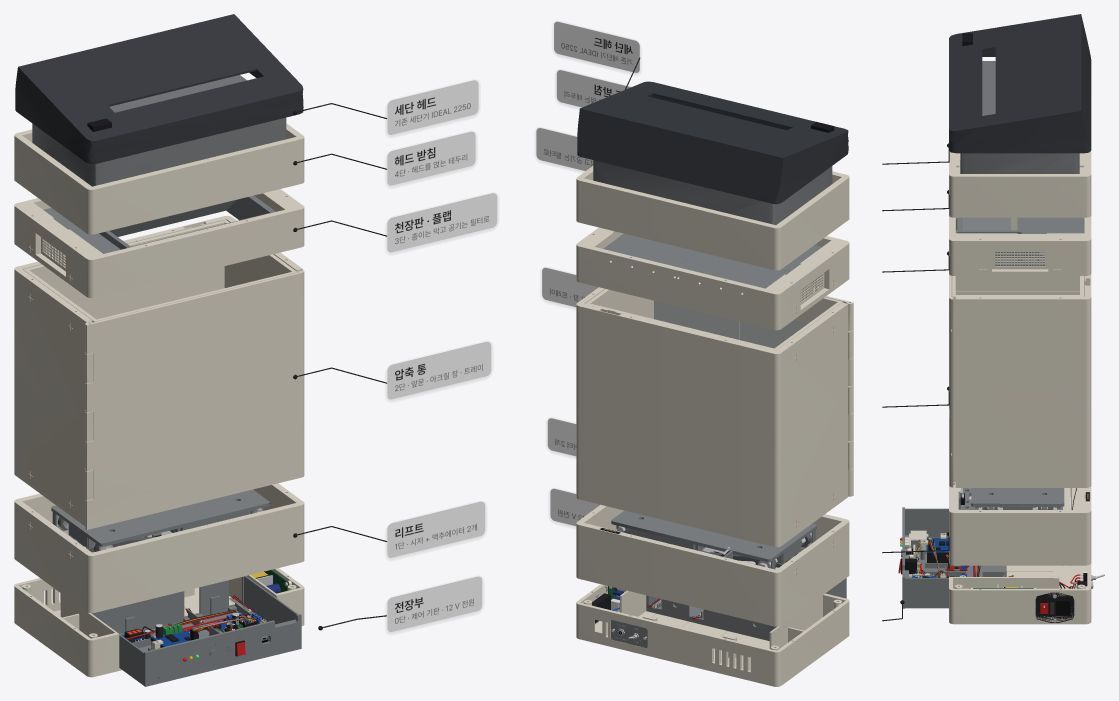
The picture shows the model from 3 angles, left to right: view 1: azimuth 30°, elevation 25°; view 2: azimuth 150°, elevation 25°; view 3: azimuth 270°, elevation 25°; orthographic projection. The views are drawn at different scales.
Visible parts, largest first — view 1: s2_door, head, c1_box, s2_outer, s3, s4, c0_drawer, c0_box, s2_bin, cal3, cal2, cal1 (+5 smaller); view 2: s2_outer, head, c1_box, s3, s4, c0_box, s2_bin, s2_door, cal5, c0_drawer, L_1-L6, L_1-L7 (+6 smaller); view 3: s2_outer, head, c1_box, s3, c0_box, s4, c0_drawer, s2_bin, L_1-L7, c0_fix, s2_door, s3_flap.
Part boxes in pixels (x1,y1,x2,y2): s2_door: (85,270,304,529); head: (15,14,303,186); c1_box: (14,483,304,613); s2_outer: (14,215,302,526); s3: (14,189,304,298); s4: (14,123,304,234); c0_drawer: (91,576,301,686); c0_box: (14,568,304,677); s2_bin: (23,220,297,322); cal3: (293,193,497,252); cal2: (293,342,491,399); cal1: (293,501,484,557); s2_outer: (576,287,853,547); head: (577,81,848,224); c1_box: (576,504,849,626); s3: (576,227,849,330); s4: (576,166,849,270); c0_box: (576,584,849,686); s2_bin: (585,289,843,350); s2_door: (654,292,853,496); cal5: (554,21,640,89); c0_drawer: (646,578,846,640); L_1-L6: (690,523,816,569); L_1-L7: (611,510,703,548); s2_outer: (951,221,1091,487); head: (949,14,1091,173); c1_box: (949,418,1091,565); s3: (949,153,1091,275); c0_box: (949,563,1091,624); s4: (949,150,1091,217); c0_drawer: (898,507,1013,608); s2_bin: (951,217,1083,482); L_1-L7: (971,488,1064,509); c0_fix: (969,573,1104,622); s2_door: (949,274,954,487); s3_flap: (961,217,1010,230).
Bounding box in the file's own units: 0.6034 × 0.849 × 0.3342.
76 materials, 10 textured.
